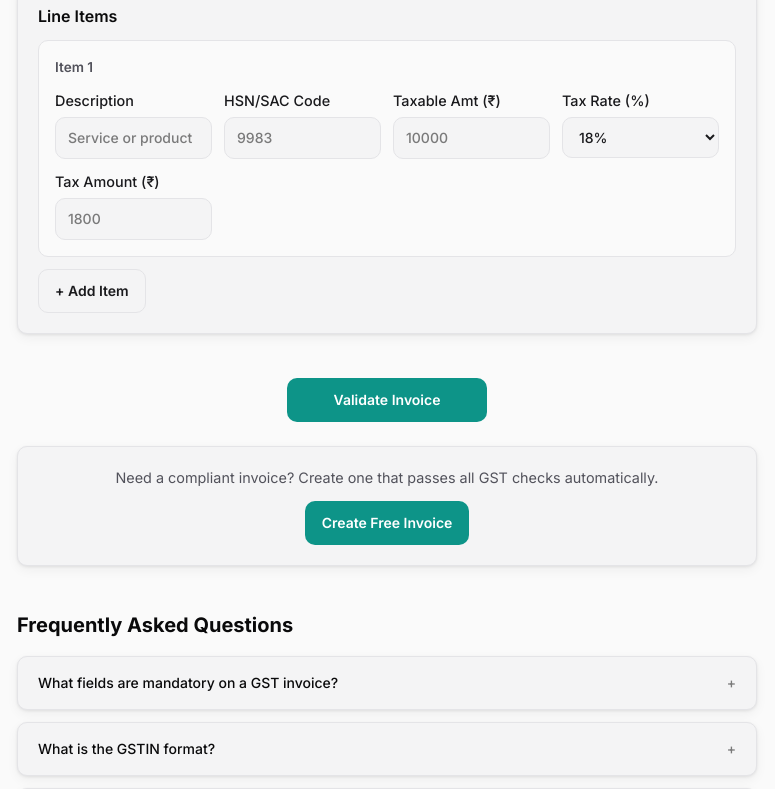
Test case: InvoiceValidatorPage › shows WhatsApp share after validation
(page scrolled)
What coordinates should you click on to do the following:
click the button "Validate Invoice"
I would click on:
 (387, 400)
Its box is [287, 378, 487, 422].
(page scrolled)
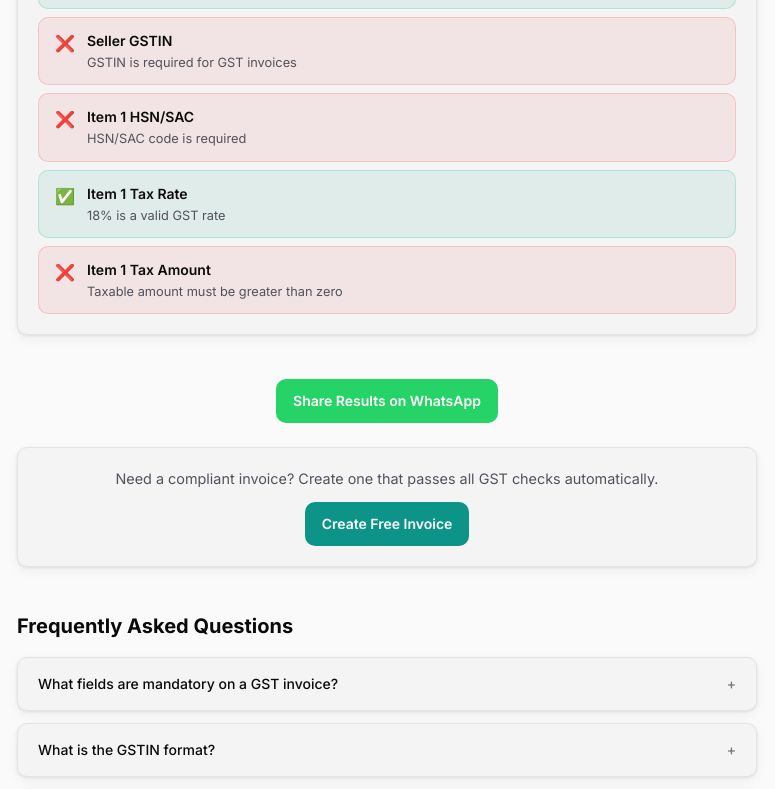
Check: the button "Share Results on WhatsApp" is shown, box [276, 379, 498, 423]
